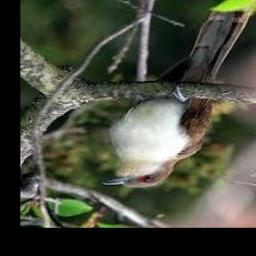Cuckoo: (100, 10, 249, 187)
